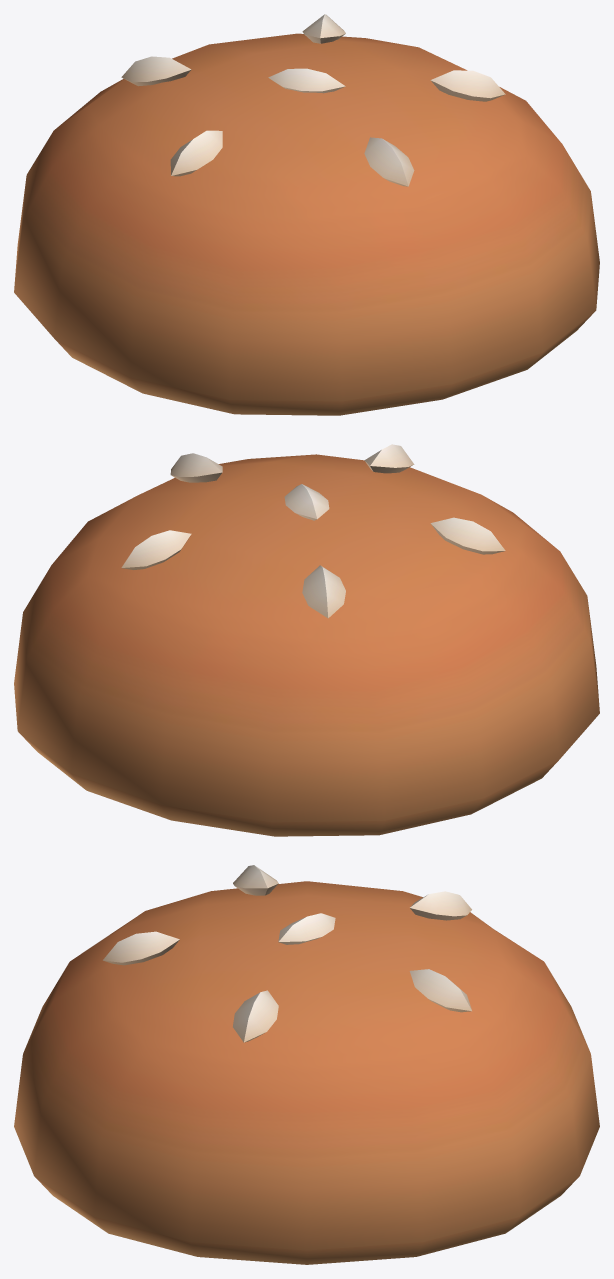
File: kaykit-restaurant-bits-food-ingredient-bun-top.glb
3 renders of one model, top to bottom at view 1: azimuth 30°, elevation 25°; view 2: azimuth 150°, elevation 25°; view 3: azimuth 270°, elevation 25°, orthographic.
Visible parts, largest first — view 1: food_ingredient_bun_top; view 2: food_ingredient_bun_top; view 3: food_ingredient_bun_top.
Part boxes in pixels (x1=…): food_ingredient_bun_top: x1=14, y1=14, x2=599, y2=415; food_ingredient_bun_top: x1=14, y1=444, x2=599, y2=836; food_ingredient_bun_top: x1=14, y1=865, x2=599, y2=1264.
Bounding box in the file's own units: 0.7 × 0.3072 × 0.7.
Materials: 1 (1 with a texture image).
